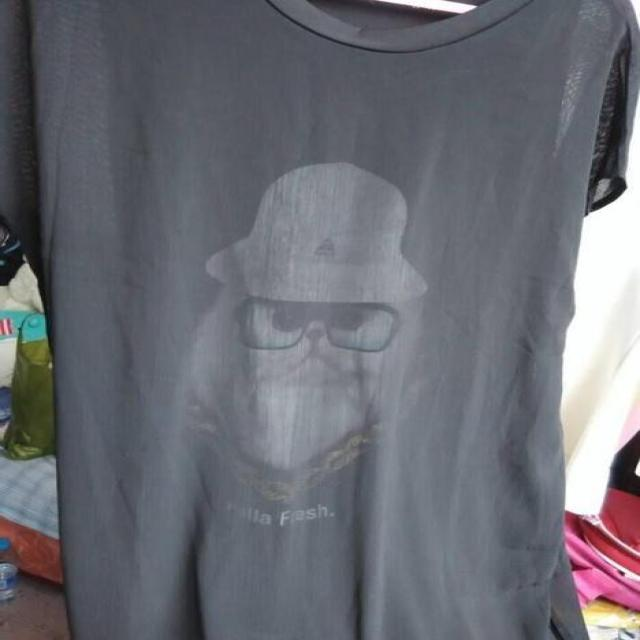short sleeve dress: (0, 1, 636, 637)
